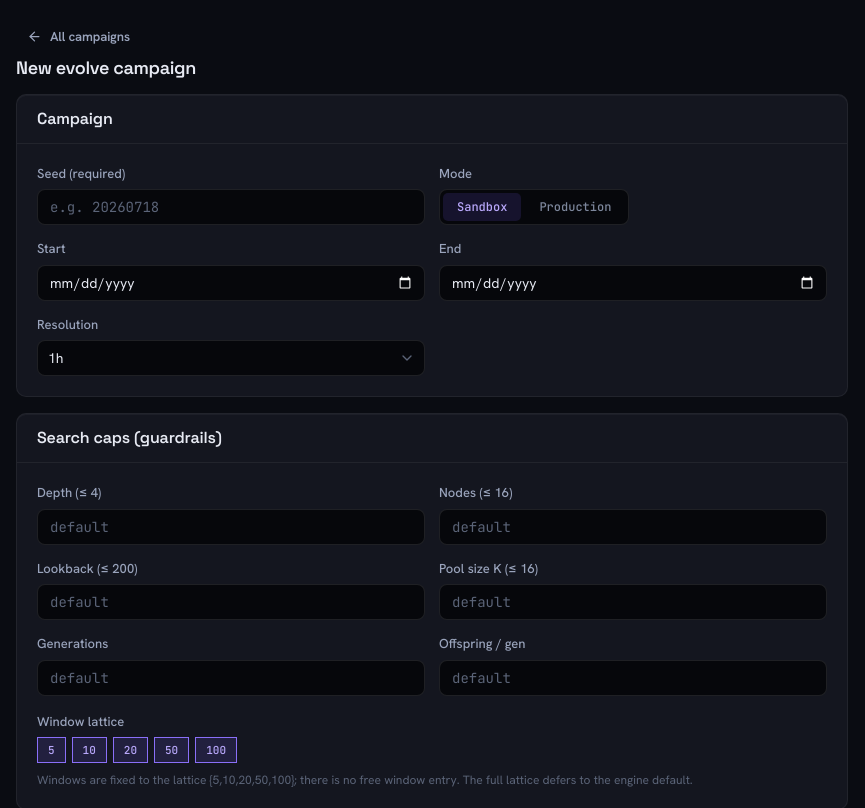
NewCampaign › blocks submit when the seed is missing (seed is REQUIRED)
Note: Fill everything EXCEPT the seed.
In the date field labelled "Start": (231, 283) [48,266,414,300], type "2021-01-01"
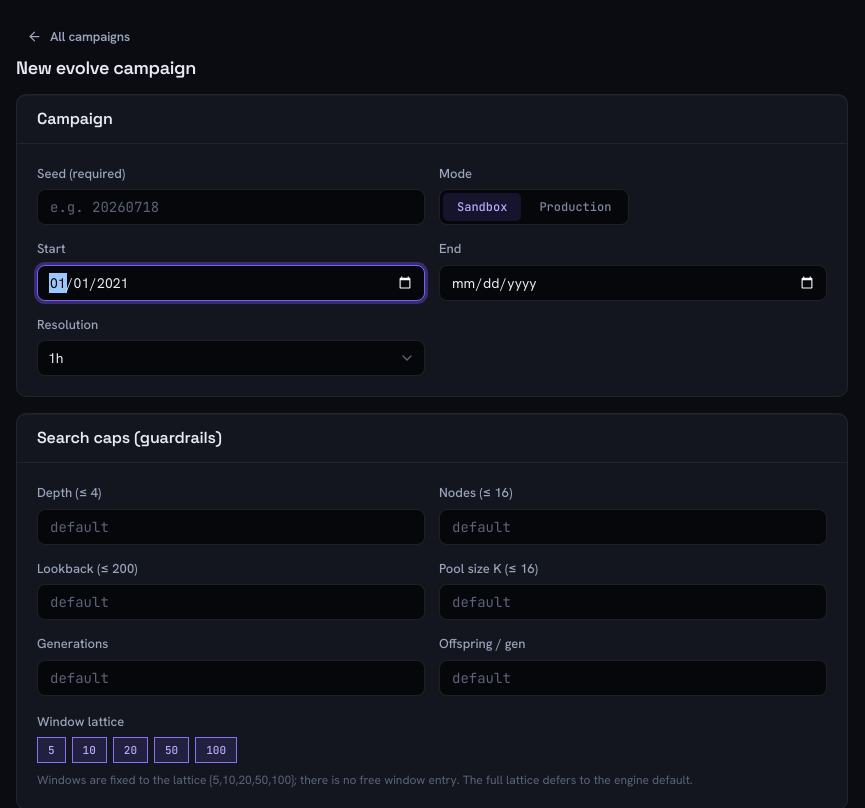
In the date field labelled "End": (633, 283) [450,266,816,300], type "2021-02-01"
(page scrolled)
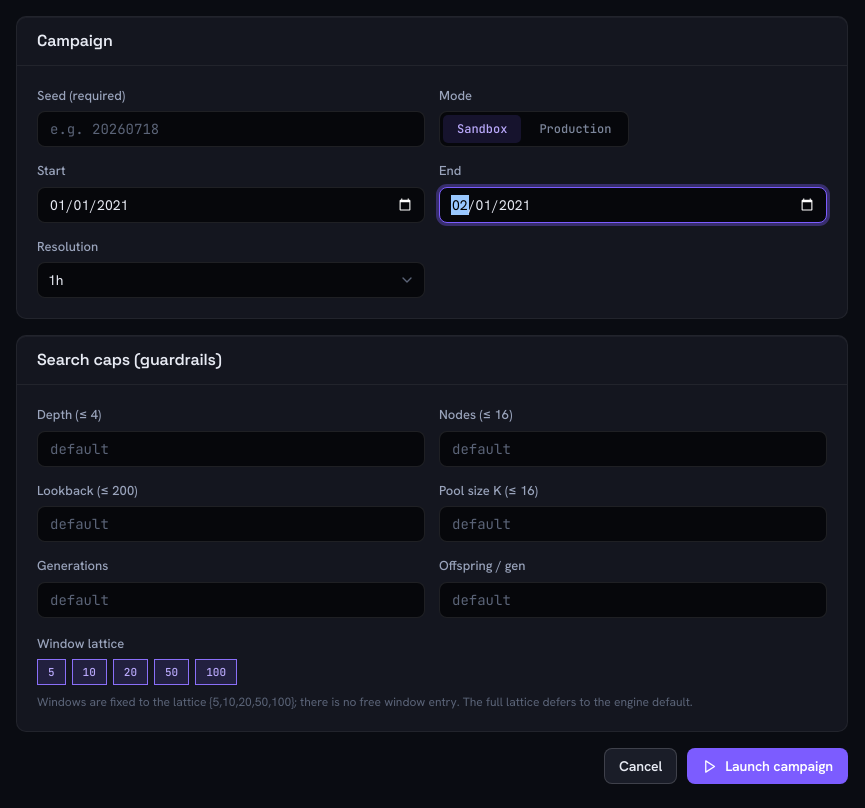
Click the button "Launch campaign": (768, 766) [687,748,848,784]
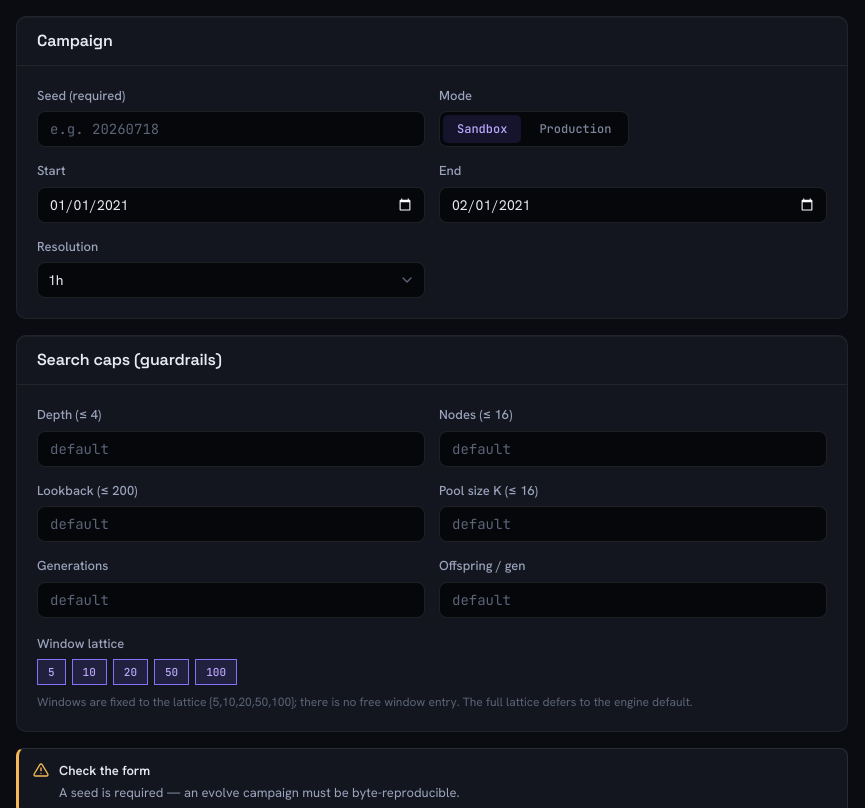
Result: the text "A seed is required" is shown at [59,784,460,801]
